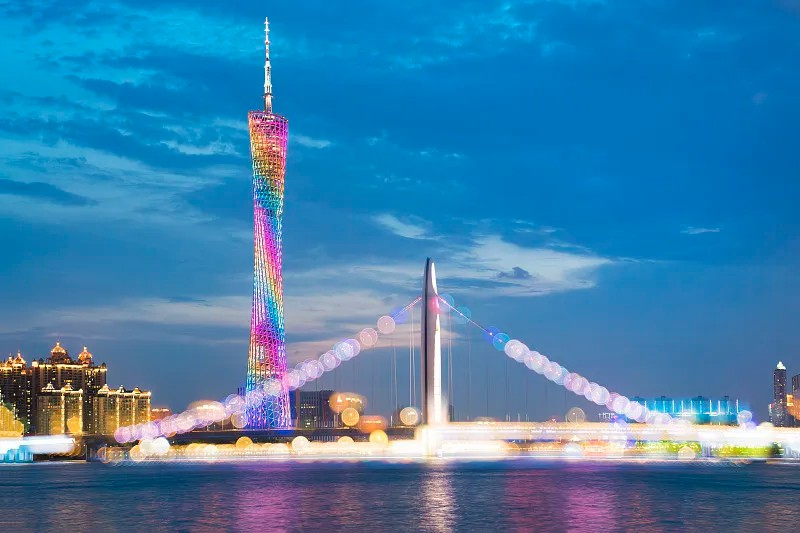Canton: (241, 16, 297, 430)
